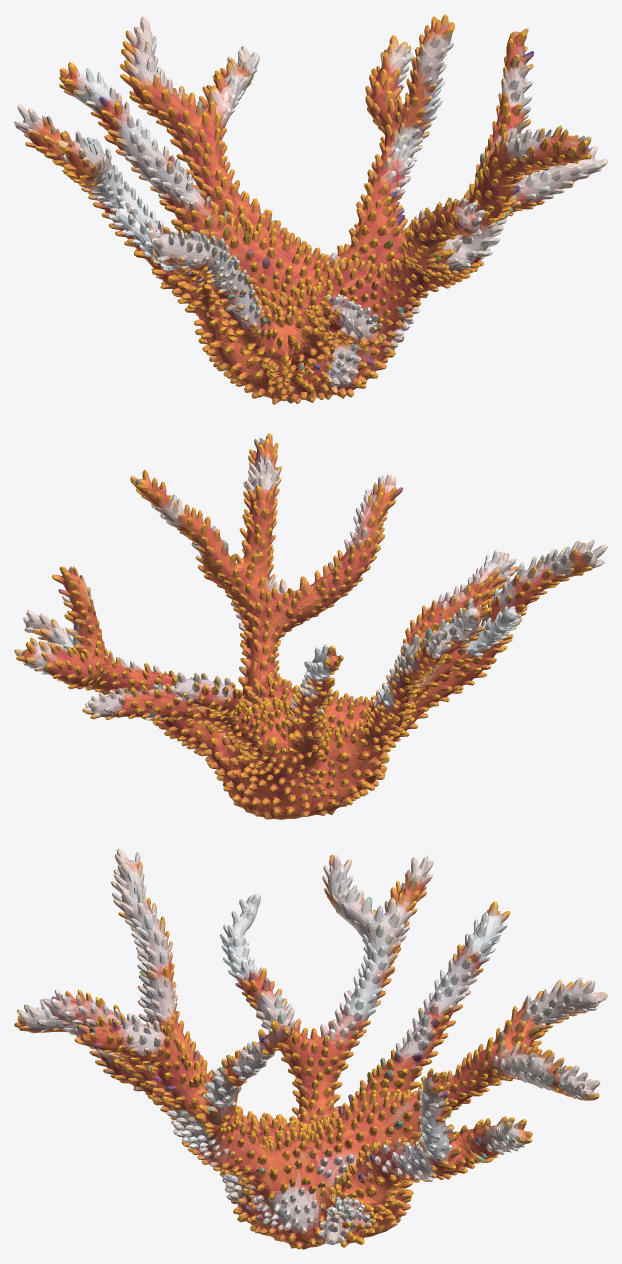
Rendered from acropora_florida_stressed.glb.
The picture shows the model from 3 angles, top to bottom: view 1: azimuth 30°, elevation 25°; view 2: azimuth 150°, elevation 25°; view 3: azimuth 270°, elevation 25°; orthographic projection. The views are drawn at different scales.
Visible parts, largest first — view 1: paint_2, paint_0, paint_294, paint_4, paint_8, paint_153, paint_9, paint_231, paint_1, paint_3, paint_138, paint_73 (+42 smaller); view 2: paint_0, paint_2, paint_4, paint_294, paint_8, paint_9, paint_1, paint_231, paint_153, paint_3, paint_18, paint_73 (+35 smaller); view 3: paint_2, paint_0, paint_4, paint_294, paint_8, paint_56, paint_33, paint_9, paint_96, paint_153, paint_231, paint_1 (+43 smaller).
Boxes of the visible parts, box(x1,y1,x2,y2) form: paint_2: box(29, 24, 580, 400); paint_0: box(39, 29, 580, 399); paint_294: box(25, 16, 591, 404); paint_4: box(31, 25, 585, 397); paint_8: box(35, 28, 561, 395); paint_153: box(26, 17, 590, 403); paint_9: box(33, 29, 580, 396); paint_231: box(25, 16, 589, 404); paint_1: box(36, 43, 587, 395); paint_3: box(39, 21, 585, 403); paint_138: box(24, 28, 584, 403); paint_73: box(28, 18, 586, 403); paint_0: box(51, 451, 554, 815); paint_2: box(25, 445, 582, 817); paint_4: box(23, 447, 588, 818); paint_294: box(15, 439, 577, 815); paint_8: box(53, 451, 581, 802); paint_9: box(25, 445, 582, 811); paint_1: box(58, 452, 581, 800); paint_231: box(26, 433, 592, 816); paint_153: box(26, 450, 576, 809); paint_3: box(35, 442, 588, 819); paint_18: box(51, 455, 545, 815); paint_73: box(28, 441, 589, 819); paint_2: box(31, 881, 559, 1241); paint_0: box(92, 888, 536, 1246); paint_4: box(19, 887, 569, 1247); paint_294: box(14, 862, 588, 1249); paint_8: box(87, 881, 557, 1235); paint_56: box(27, 853, 601, 1237); paint_33: box(22, 856, 600, 1238); paint_9: box(88, 883, 539, 1238); paint_96: box(22, 851, 603, 1243); paint_153: box(18, 862, 598, 1248); paint_231: box(14, 854, 598, 1247); paint_1: box(80, 900, 521, 1235).
Bounding box in the file's own units: 2 × 1.06 × 1.93.
